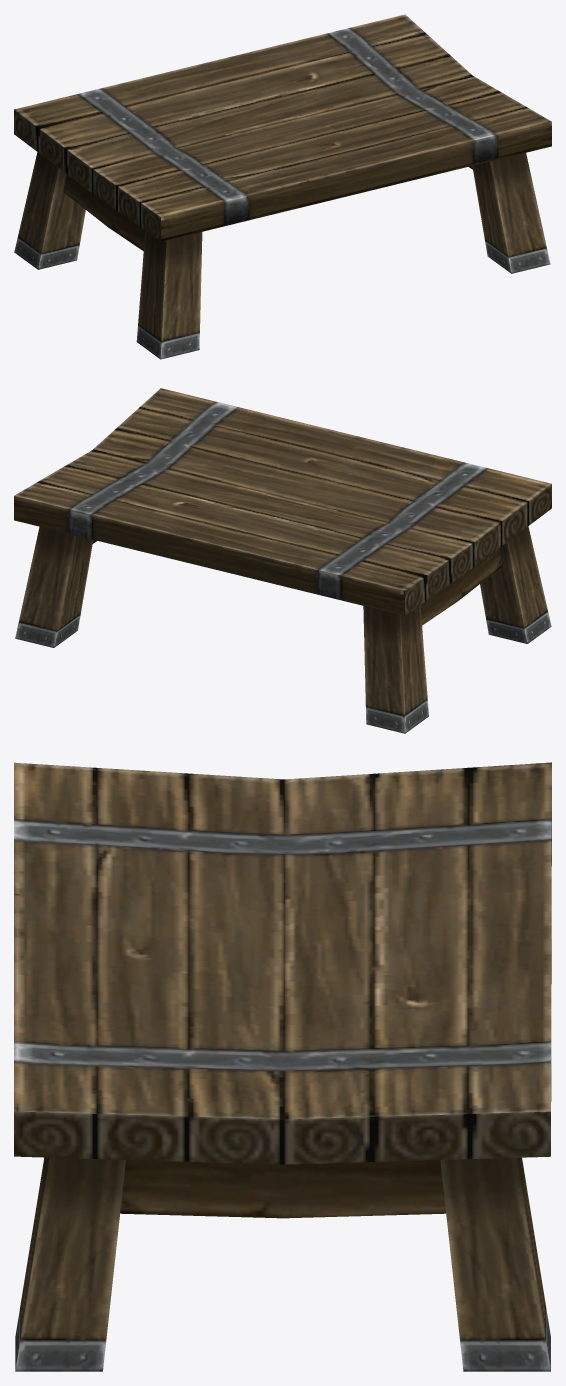
File: table.fbx
The picture shows the model from 3 angles, top to bottom: view 1: azimuth 30°, elevation 25°; view 2: azimuth 150°, elevation 25°; view 3: azimuth 270°, elevation 25°; orthographic projection. The views are drawn at different scales.
Parts seen in each view (by area): view 1: table_mat; view 2: table_mat; view 3: table_mat.
Part boxes in pixels (x1=…): table_mat: x1=14, y1=14, x2=551, y2=359; table_mat: x1=14, y1=388, x2=551, y2=733; table_mat: x1=14, y1=762, x2=551, y2=1371.
Size of the model in its own units: 3.08 by 1.08 by 2.01.
